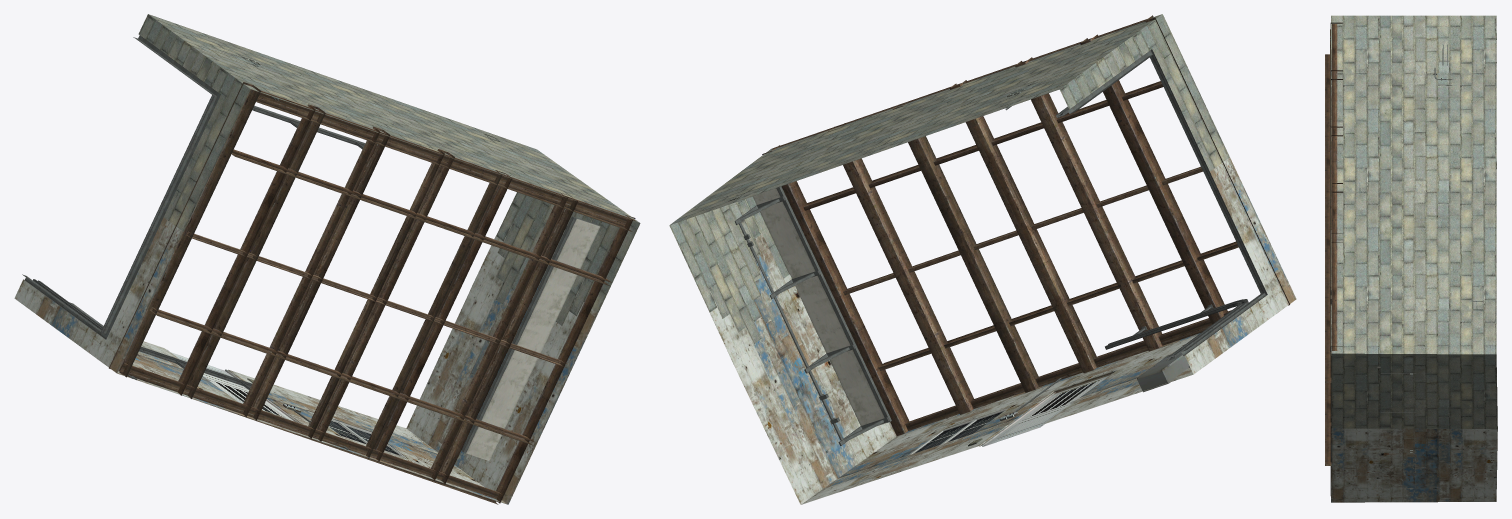
Rendered from SC11_garage.fbx.
3 views of the same model, side by side, from view 1: azimuth 30°, elevation 25°; view 2: azimuth 150°, elevation 25°; view 3: azimuth 270°, elevation 25° (orthographic). The views are drawn at different scales.
Visible parts, largest first — view 1: sc1_11_garage; view 2: sc1_11_garage; view 3: sc1_11_garage.
Part boxes in pixels (left/top/right/bottom): sc1_11_garage: left=14, top=14, right=640, bottom=504; sc1_11_garage: left=669, top=14, right=1296, bottom=504; sc1_11_garage: left=1325, top=15, right=1497, bottom=502.
Bounding box in the file's own units: 912 × 799 × 322.
